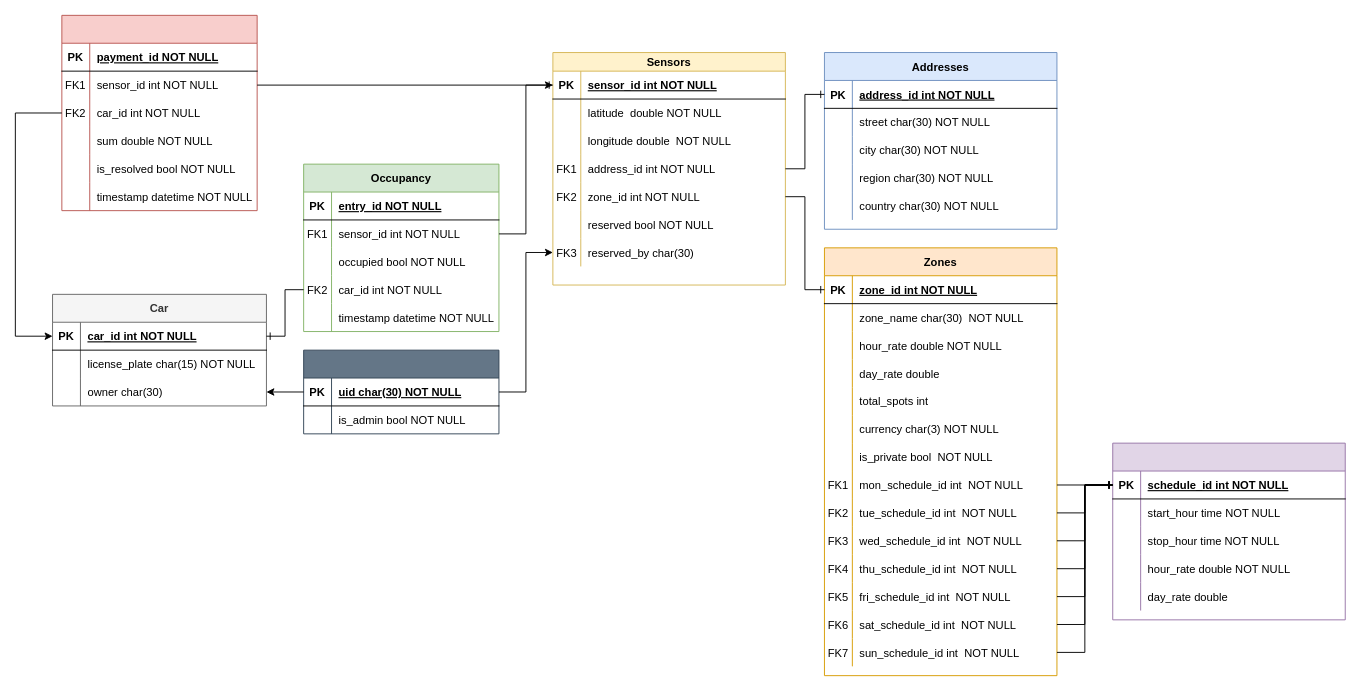
Image size: 1361x691. Some labels were removed from this diagram. Here are the shapes that lost their labels. From the top down, the box of each, then its label:
(61, 14, 257, 211): Payments
(303, 349, 499, 434): Users
(1112, 442, 1345, 620): Schedules
